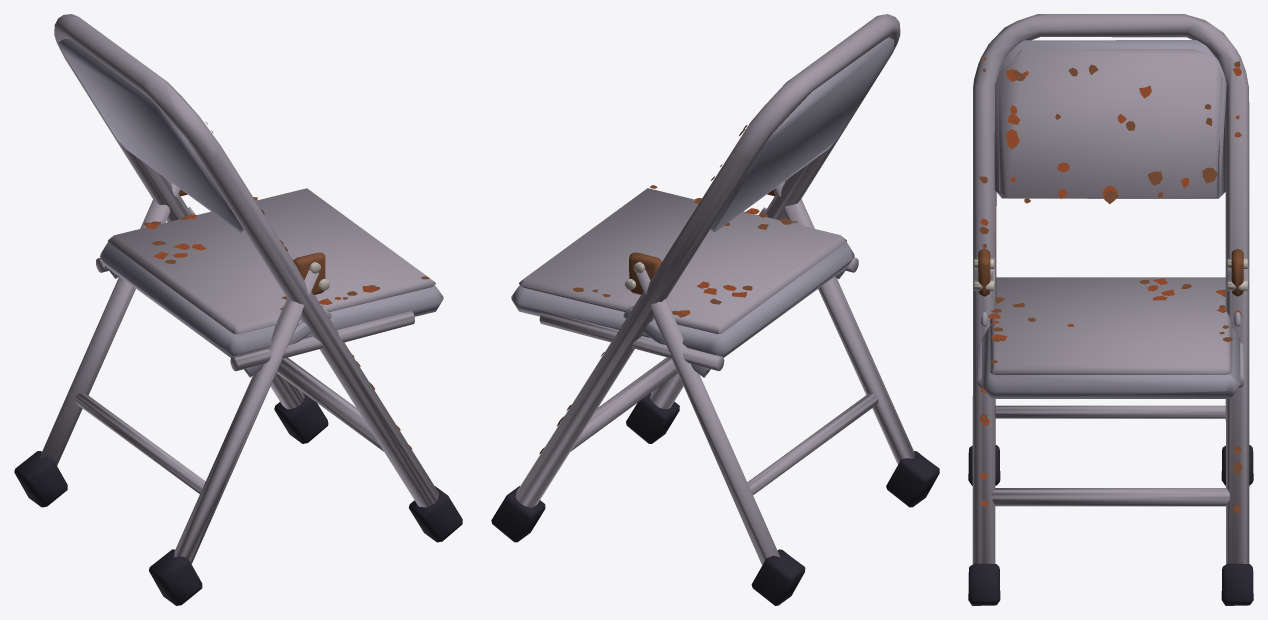
The model's file is prop.folding-chair.lod1.glb.
3 views of the same model, side by side, from view 1: azimuth 30°, elevation 25°; view 2: azimuth 150°, elevation 25°; view 3: azimuth 270°, elevation 25° (orthographic). The views are drawn at different scales.
Bounding box in the file's own units: 0.6492 × 1.04 × 0.563.
